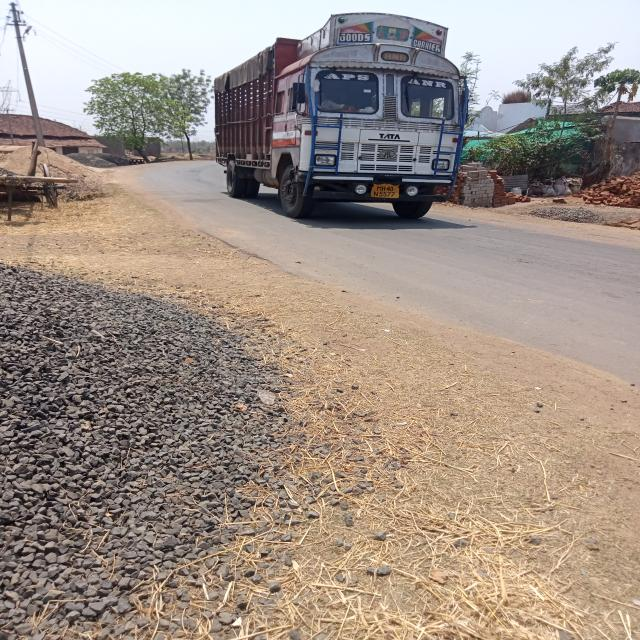truck: (165, 30, 486, 240)
